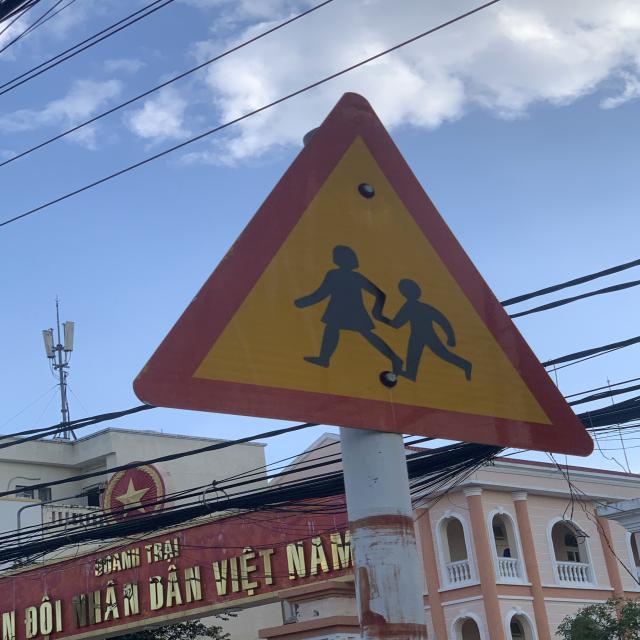Vong_Xuyen: (128, 91, 602, 458)
